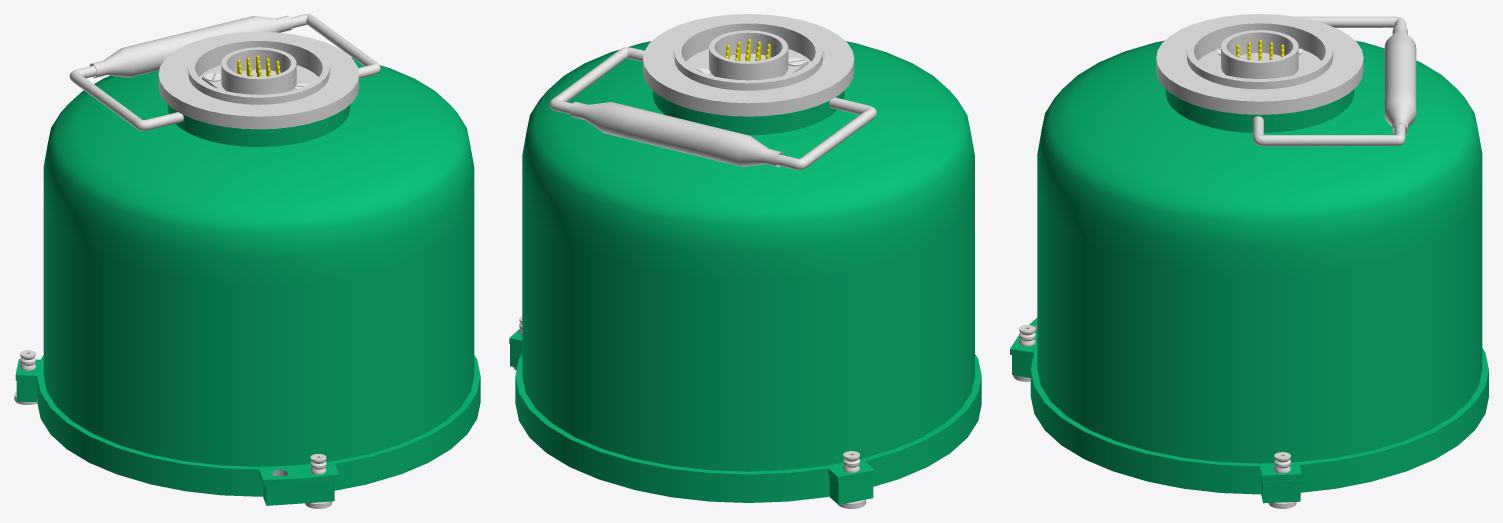
3 renders of one model, left to right at view 1: azimuth 30°, elevation 25°; view 2: azimuth 150°, elevation 25°; view 3: azimuth 270°, elevation 25°, orthographic. The views are drawn at different scales.
Visible parts, largest first — view 1: 胶囊, 圆柱_2_2, 圆柱, 圆柱_1, 扫描, 管道, 立方体; view 2: 胶囊, 圆柱_2_2, 圆柱, 扫描, 管道, 圆柱_1, 立方体_2; view 3: 胶囊, 圆柱_2_2, 圆柱_1, 扫描, 管道, 圆柱, 立方体_1.
Boxes of the visible parts, x1=… form: 胶囊: x1=15, y1=57, x2=480, y2=496; 圆柱_2_2: x1=158, y1=31, x2=359, y2=129; 圆柱: x1=89, y1=15, x2=292, y2=77; 圆柱_1: x1=167, y1=104, x2=350, y2=147; 扫描: x1=69, y1=14, x2=380, y2=130; 管道: x1=221, y1=47, x2=296, y2=94; 立方体: x1=263, y1=475, x2=334, y2=505; 胶囊: x1=509, y1=41, x2=981, y2=502; 圆柱_2_2: x1=643, y1=14, x2=854, y2=116; 圆柱: x1=570, y1=101, x2=783, y2=167; 扫描: x1=549, y1=47, x2=876, y2=170; 管道: x1=709, y1=30, x2=788, y2=80; 圆柱_1: x1=652, y1=90, x2=844, y2=135; 立方体_2: x1=829, y1=476, x2=873, y2=504; 胶囊: x1=1010, y1=40, x2=1488, y2=494; 圆柱_2_2: x1=1156, y1=14, x2=1363, y2=114; 圆柱_1: x1=1165, y1=89, x2=1354, y2=132; 扫描: x1=1252, y1=16, x2=1406, y2=146; 管道: x1=1221, y1=30, x2=1298, y2=78; 圆柱: x1=1384, y1=24, x2=1416, y2=135; 立方体_1: x1=1261, y1=480, x2=1300, y2=503.
Bounding box in the file's own units: 0.8647 × 0.7066 × 0.8614.
